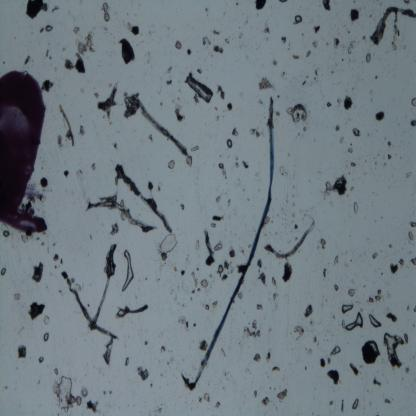Air bubble: (383, 332, 403, 369), (121, 248, 135, 292), (344, 310, 365, 332), (368, 313, 382, 329), (341, 303, 354, 314), (330, 346, 341, 356), (42, 332, 51, 343), (294, 13, 303, 24), (352, 399, 360, 410), (226, 139, 234, 150), (0, 266, 7, 276), (45, 24, 53, 32), (38, 356, 45, 364), (218, 162, 224, 170)
Background material: (51, 374, 81, 410), (57, 102, 74, 150), (158, 233, 180, 261), (324, 175, 349, 199), (116, 38, 135, 66), (122, 90, 141, 118), (64, 52, 86, 75), (285, 104, 309, 125), (361, 340, 381, 365), (243, 318, 263, 340), (27, 1, 49, 20), (78, 34, 96, 55), (27, 300, 45, 320), (30, 262, 45, 285), (257, 75, 275, 91), (217, 260, 230, 282), (104, 338, 114, 366), (136, 364, 150, 384), (281, 261, 293, 284), (60, 270, 76, 286), (290, 325, 305, 342), (327, 370, 340, 387), (348, 7, 361, 24), (178, 314, 190, 332), (41, 80, 56, 94), (368, 289, 382, 304), (303, 302, 314, 320), (126, 22, 140, 36), (86, 399, 99, 414), (197, 338, 209, 354), (254, 0, 268, 13), (101, 3, 110, 23), (374, 109, 386, 124), (175, 107, 186, 122), (262, 18, 272, 34), (310, 66, 318, 86), (385, 311, 398, 323), (346, 40, 355, 57), (350, 362, 360, 377), (343, 95, 353, 110), (258, 270, 268, 285), (216, 85, 226, 100), (17, 344, 27, 359), (351, 126, 362, 139), (332, 35, 341, 50), (322, 0, 332, 13), (54, 134, 63, 148), (277, 389, 288, 400), (249, 127, 260, 138), (254, 257, 264, 269), (269, 365, 282, 374), (390, 262, 398, 276), (270, 275, 278, 289), (78, 123, 86, 137), (201, 35, 211, 46), (280, 34, 289, 46), (253, 352, 262, 364), (167, 158, 176, 170), (200, 277, 209, 289), (241, 159, 250, 171), (212, 45, 224, 54), (191, 273, 198, 288), (186, 155, 194, 168), (372, 378, 382, 388), (190, 143, 200, 153), (44, 50, 53, 61), (23, 56, 32, 67), (383, 395, 392, 406), (255, 300, 263, 312), (332, 254, 340, 266), (334, 121, 342, 133), (72, 25, 80, 37), (212, 214, 224, 222), (311, 38, 319, 50), (319, 238, 326, 251), (265, 352, 272, 365), (324, 99, 333, 109), (62, 170, 71, 180), (203, 392, 211, 403), (226, 101, 234, 112), (52, 251, 60, 262), (314, 23, 321, 35), (409, 255, 416, 267), (44, 314, 50, 328), (231, 126, 238, 138), (291, 52, 300, 61), (347, 288, 356, 297), (13, 292, 22, 301), (194, 66, 204, 74), (353, 202, 359, 215), (409, 117, 416, 128), (318, 358, 326, 367), (214, 398, 222, 407), (410, 97, 416, 109), (215, 244, 224, 252), (270, 292, 278, 301), (260, 398, 270, 405), (253, 388, 260, 398), (398, 258, 405, 268), (340, 399, 345, 413), (186, 48, 193, 58), (204, 302, 211, 312), (409, 219, 416, 229), (215, 195, 222, 205), (175, 41, 182, 51), (366, 52, 372, 63), (403, 333, 409, 344), (350, 160, 358, 168), (209, 222, 217, 230), (371, 251, 378, 260), (385, 139, 392, 148), (322, 267, 327, 279), (408, 232, 414, 242), (90, 162, 96, 172), (347, 146, 354, 154), (224, 37, 231, 45), (161, 344, 166, 355), (305, 50, 312, 57), (178, 203, 184, 211), (387, 152, 393, 160), (230, 250, 236, 258), (125, 356, 129, 368), (166, 78, 172, 86), (339, 135, 344, 144), (334, 283, 339, 292), (180, 269, 186, 276)
Cellulose filter fibre: (115, 163, 174, 233), (136, 97, 188, 157), (66, 285, 119, 342), (88, 242, 119, 330), (87, 198, 157, 233), (264, 220, 315, 261), (369, 6, 416, 44), (97, 81, 121, 117), (116, 302, 149, 318), (203, 228, 215, 260)
Cotton: (182, 97, 276, 388)
Diatom: (184, 74, 213, 105), (80, 386, 89, 400), (40, 177, 48, 189)
Pen: (0, 66, 48, 236)
